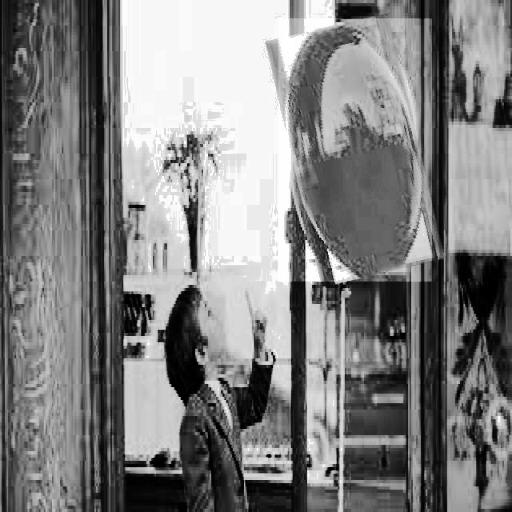balloon: (278, 18, 432, 282)
